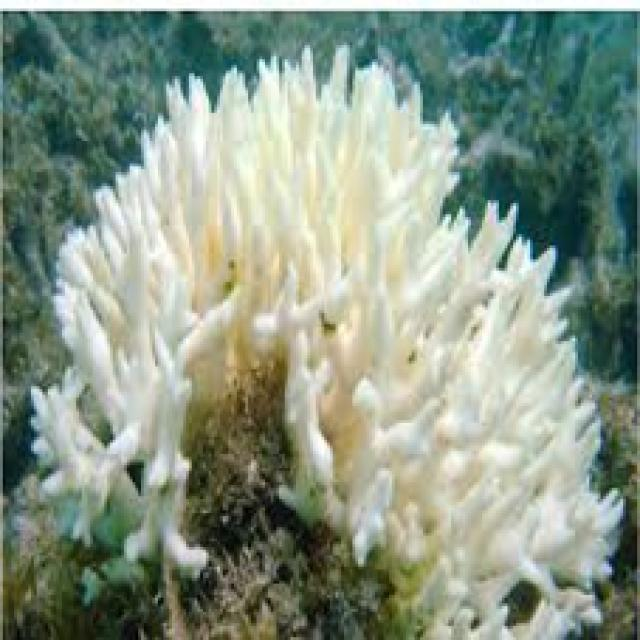Bleached: (371, 243, 566, 640), (38, 197, 211, 586), (285, 63, 463, 289), (195, 76, 297, 384), (285, 266, 386, 563), (550, 337, 619, 634), (103, 86, 198, 202)
